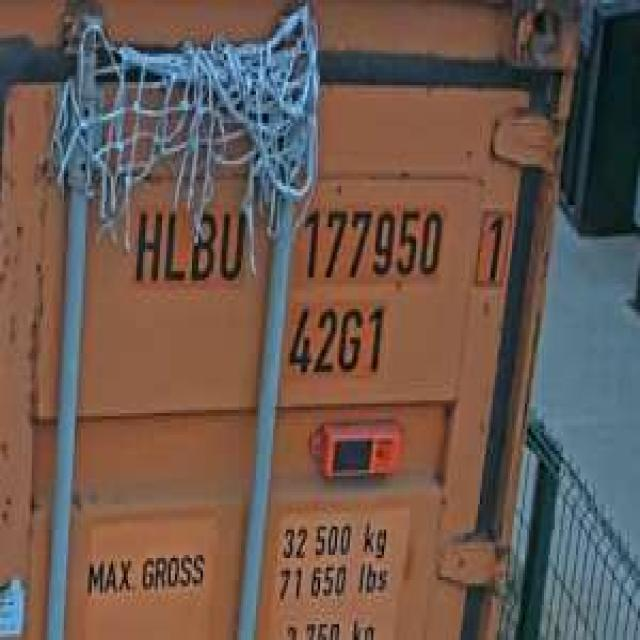dv: (467, 196, 516, 296)
owner: (128, 196, 258, 293)
serial: (299, 199, 446, 287)
size: (284, 296, 388, 382)
